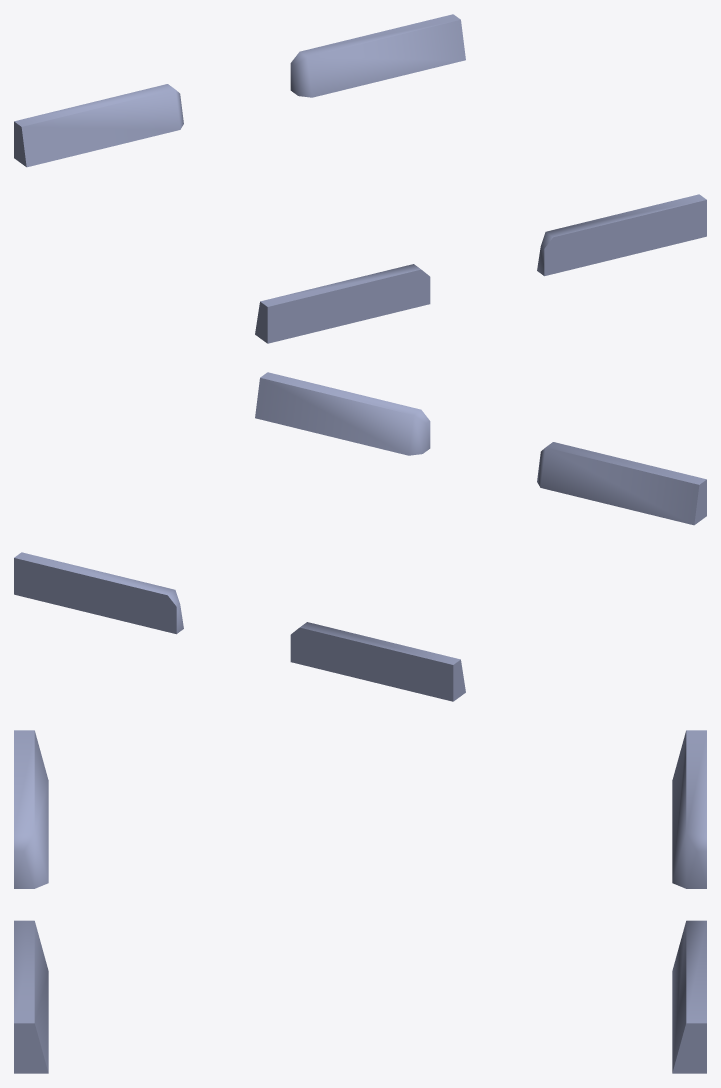
Rendered from road-driveway-double-barrier.glb.
The picture shows the model from 3 angles, top to bottom: view 1: azimuth 30°, elevation 25°; view 2: azimuth 150°, elevation 25°; view 3: azimuth 270°, elevation 25°; orthographic projection. The views are drawn at different scales.
Parts seen in each view (by area): view 1: road-driveway-double-barrier; view 2: road-driveway-double-barrier; view 3: road-driveway-double-barrier.
Boxes of the visible parts, x1=… form: road-driveway-double-barrier: x1=14, y1=14, x2=706, y2=343; road-driveway-double-barrier: x1=14, y1=372, x2=706, y2=701; road-driveway-double-barrier: x1=14, y1=730, x2=706, y2=1073.
Size of the model in its own units: 1 by 0.08 by 1.
1 material, 1 textured.
